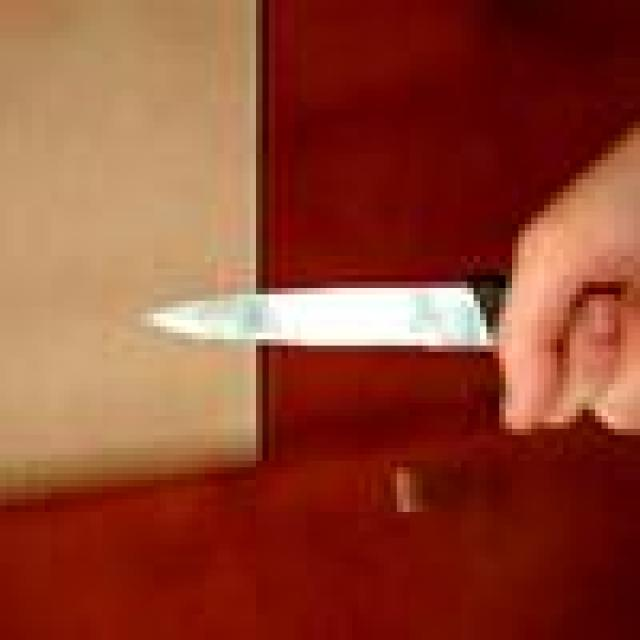knife: (142, 274, 512, 347)
